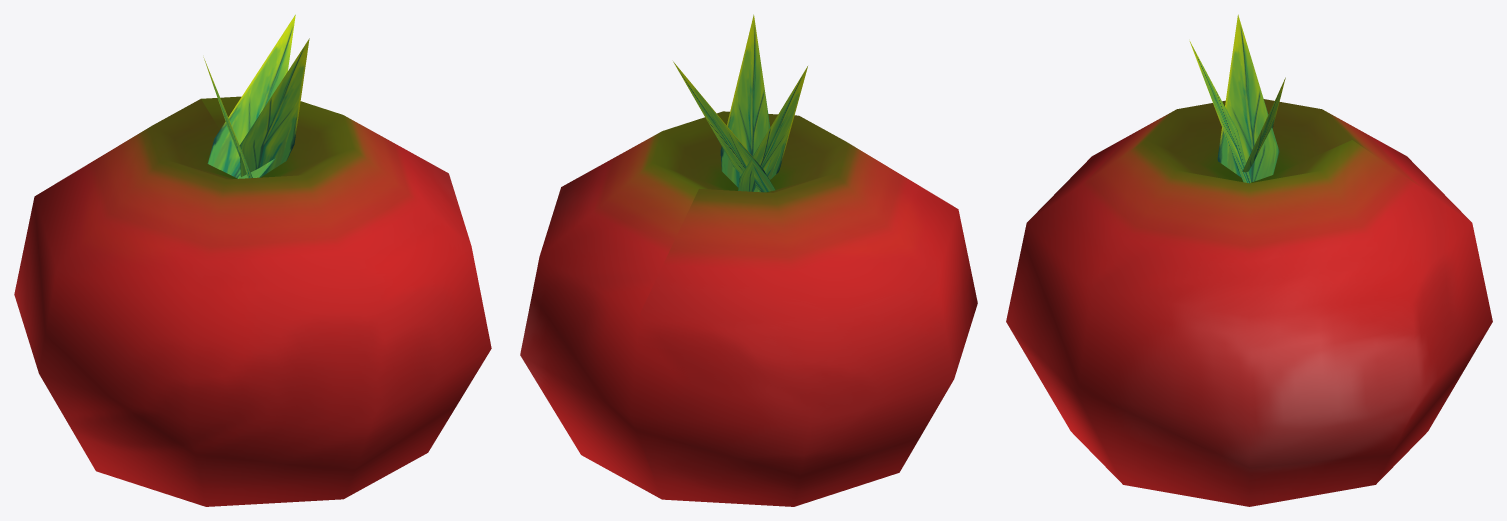
Rendered from SM_PROP_food_tomato.FBX.
3 views of the same model, side by side, from view 1: azimuth 30°, elevation 25°; view 2: azimuth 150°, elevation 25°; view 3: azimuth 270°, elevation 25° (orthographic). The views are drawn at different scales.
Parts seen in each view (by area): view 1: SM_PROP_food_tomato; view 2: SM_PROP_food_tomato; view 3: SM_PROP_food_tomato.
Boxes of the visible parts, box(x1,y1,x2,y2) form: SM_PROP_food_tomato: box(14, 14, 491, 506); SM_PROP_food_tomato: box(520, 14, 977, 506); SM_PROP_food_tomato: box(1006, 14, 1492, 506).
Size of the model in its own units: 19.95 by 19.95 by 20.4.
